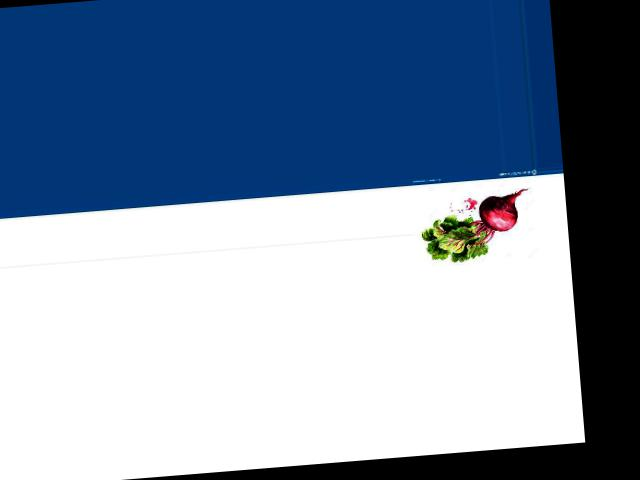beet: (417, 188, 532, 264)
